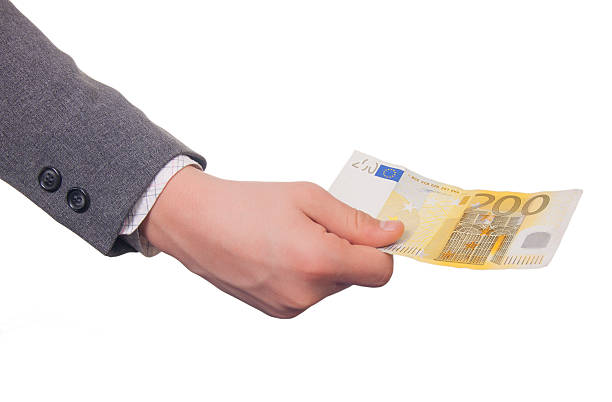billete: (324, 149, 584, 271)
